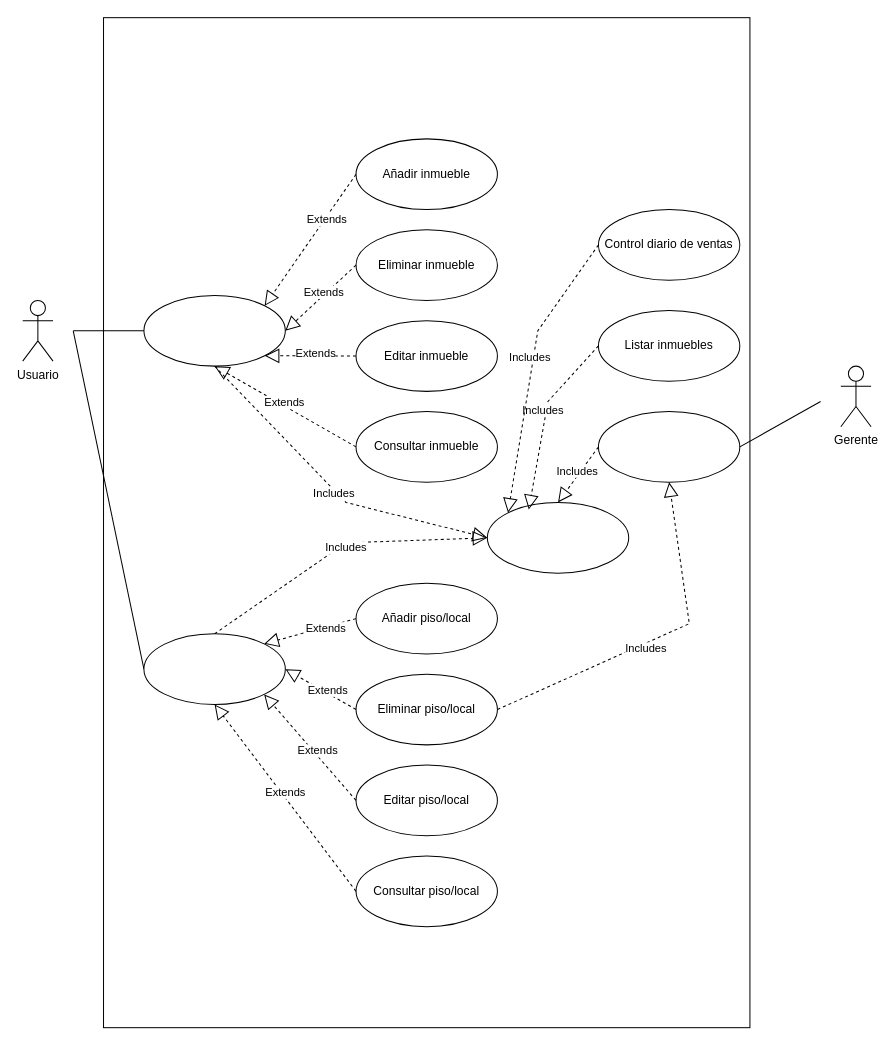
Image size: 895x1045. Some labels were removed from this diagram. The shapes that lost their labels are listed below. From the top down, each one's centre as x and y in pixels, then its label:
the point at 214,330: Gestionar inmueble
the point at 668,446: Autorizar eliminacion total de piso
the point at 557,537: Iniciar sesion
the point at 214,668: Gestionar piso/local
